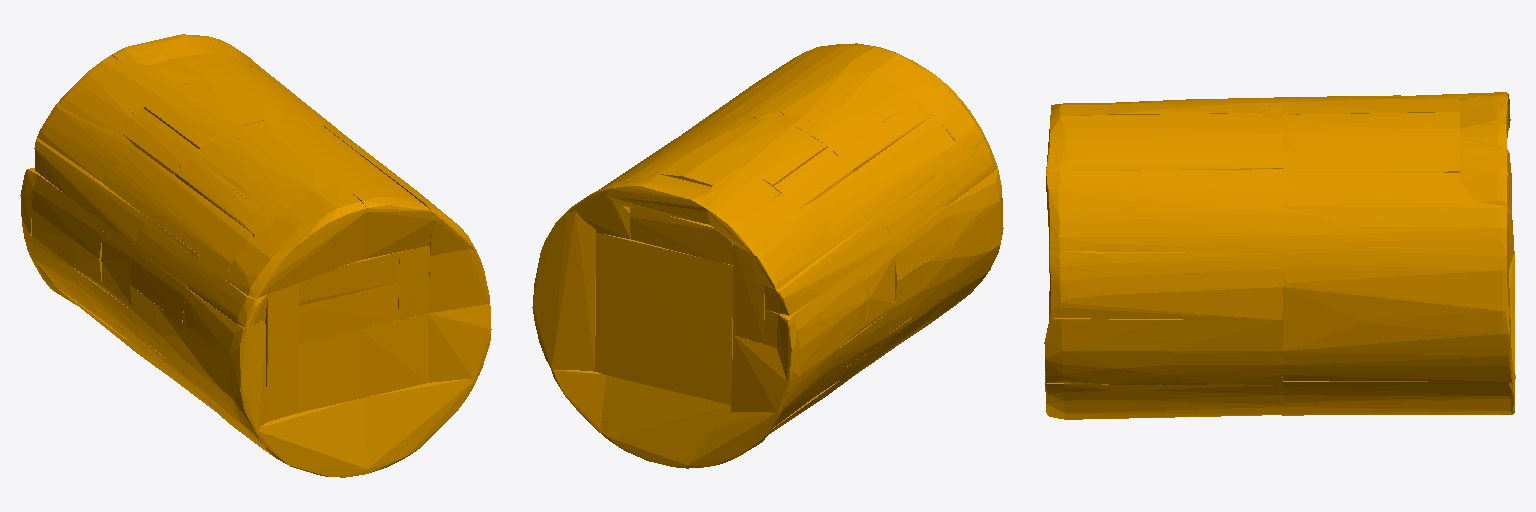
URDF robot description (can-cheakpeas):
<?xml version="1.0" ?>
<robot name="can-cheakpeas">
  <link name="baseLink">
    <contact>
      <lateral_friction value="1.0"/>
      <inertia_scaling value="3.0"/>
    </contact>
    <inertial>
      <origin rpy="0 0 0" xyz="0.000 0.000 0.000"/>
       <mass value=".1"/>
       <inertia ixx="1" ixy="0.0" ixz="0.0" iyy="1" iyz="0.0" izz="1"/>
    </inertial>
    <visual>
      <origin rpy="0 0 0" xyz="0 0 0"/>
      <geometry>
        <mesh filename="can/can-cheakpeas.obj" scale="1.0 1.0 1.0"/>
      </geometry>
    </visual>
    <collision>
      <origin rpy="0 0 0" xyz="0 0 0"/>
      <geometry>
        <mesh filename="../collision/can/can-cheakpeas.obj" scale="1.0 1.0 1.0"/>
      </geometry>
    </collision>
  </link>
</robot>
        

--- What the picture shows (computed from the rendered views, not written in the file) ---
The picture shows the robot from 3 angles, left to right: view 1: azimuth 30°, elevation 25°; view 2: azimuth 150°, elevation 25°; view 3: azimuth 270°, elevation 25°; orthographic projection.
Model can-cheakpeas with 1 links and 0 joints (none), rooted at baseLink, posed every joint at zero.
Visible links, largest first — view 1: baseLink; view 2: baseLink; view 3: baseLink.
Boxes of the visible links, x1=… form: baseLink: x1=20, y1=34, x2=491, y2=477; baseLink: x1=532, y1=43, x2=1003, y2=468; baseLink: x1=1044, y1=92, x2=1515, y2=419.
Bounding box of the posed robot: 0.0748 × 0.1094 × 0.0754 m (x, y, z).
Meshes: 1 distinct files referenced, 1 mesh visuals loaded (1 OBJ).